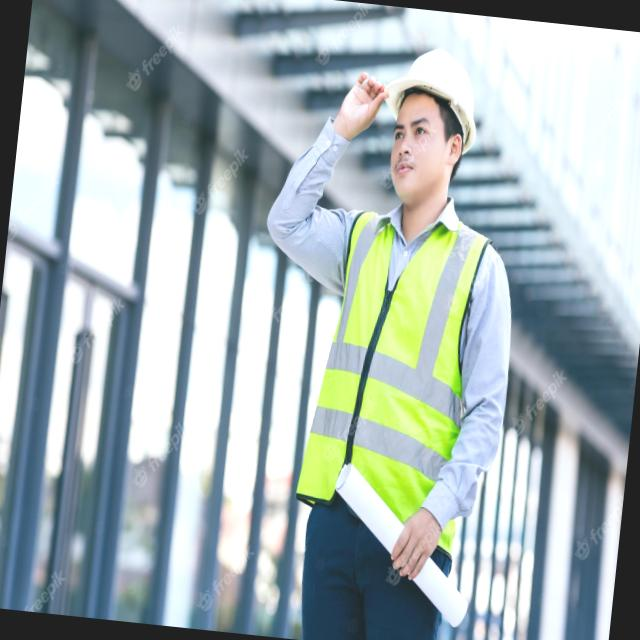helmet: (376, 39, 486, 162)
no-goggles: (384, 111, 438, 152)
vest: (288, 202, 496, 568)
